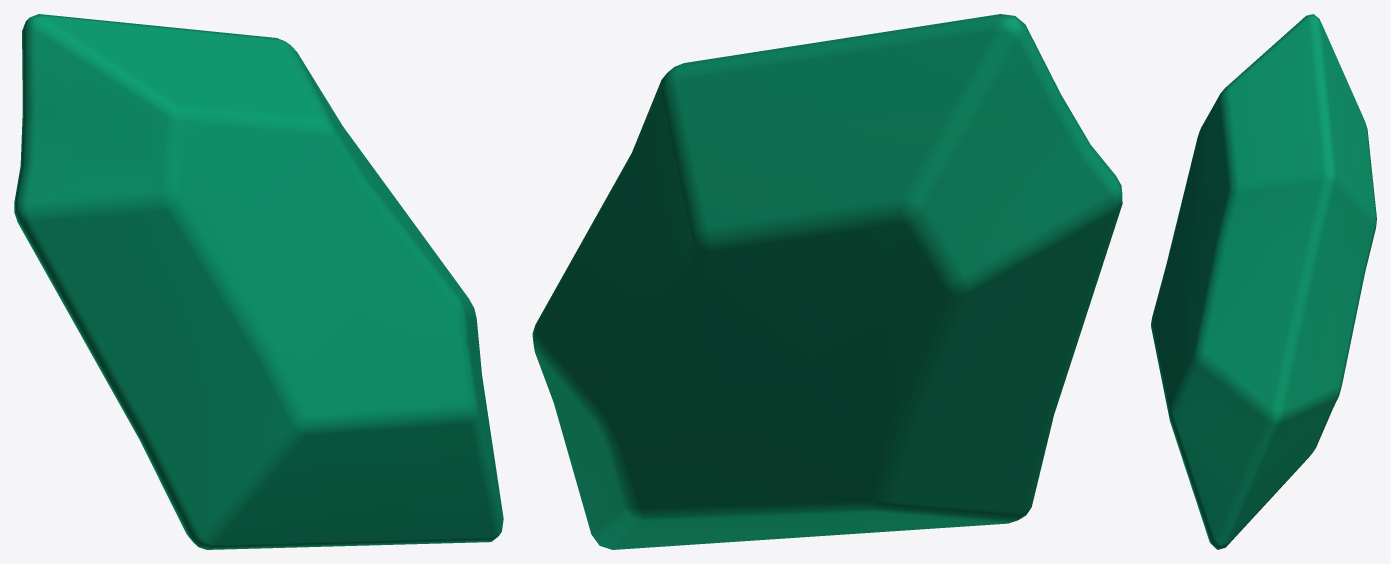
3 renders of one model, left to right at view 1: azimuth 30°, elevation 25°; view 2: azimuth 150°, elevation 25°; view 3: azimuth 270°, elevation 25°, orthographic. The views are drawn at different scales.
Parts seen in each view (by area): view 1: model_1.137; view 2: model_1.137; view 3: model_1.137.
Boxes of the visible parts, x1,y1,x2,y2 form: model_1.137: [14, 14, 503, 549]; model_1.137: [532, 14, 1122, 549]; model_1.137: [1151, 14, 1376, 549].
Size of the model in its own units: 3.48 by 4.07 by 2.08.
